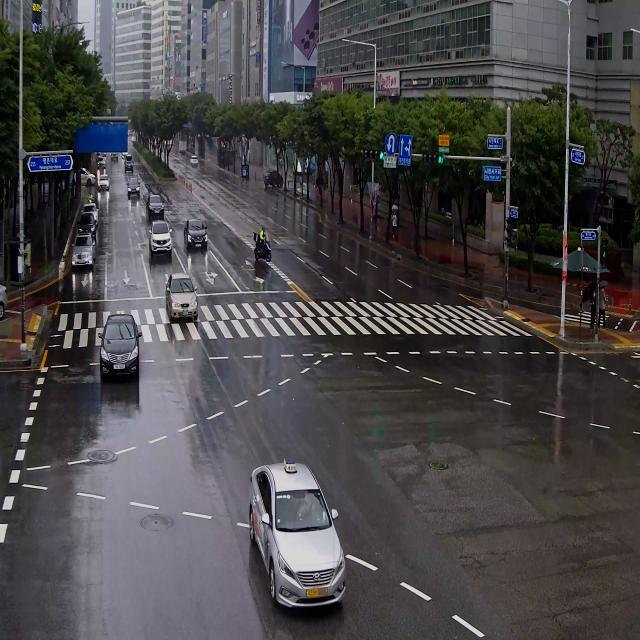Car: (244, 448, 359, 628), (94, 307, 145, 397), (150, 258, 204, 331), (71, 233, 102, 292), (145, 215, 177, 272), (183, 216, 216, 263), (145, 190, 171, 226), (0, 266, 16, 324), (74, 207, 100, 239), (262, 162, 286, 193), (74, 164, 95, 188), (81, 201, 101, 226), (125, 171, 141, 197), (98, 173, 110, 193), (124, 154, 134, 172), (189, 152, 198, 168), (97, 156, 106, 170)
Motorcycle: (245, 215, 278, 275), (88, 192, 94, 203)
Truck: (178, 138, 188, 154)
